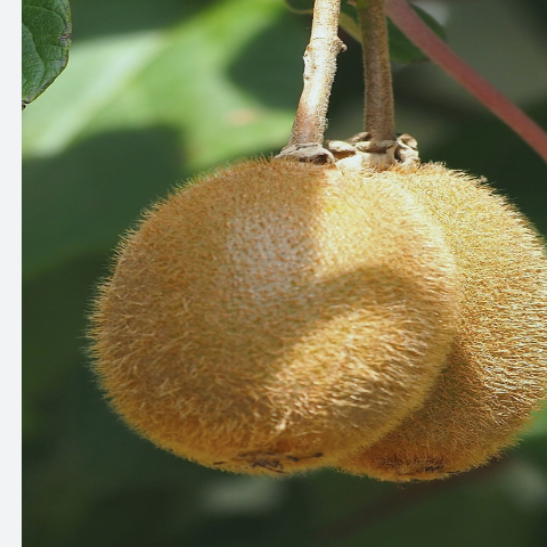kiwi: (85, 134, 459, 502)
